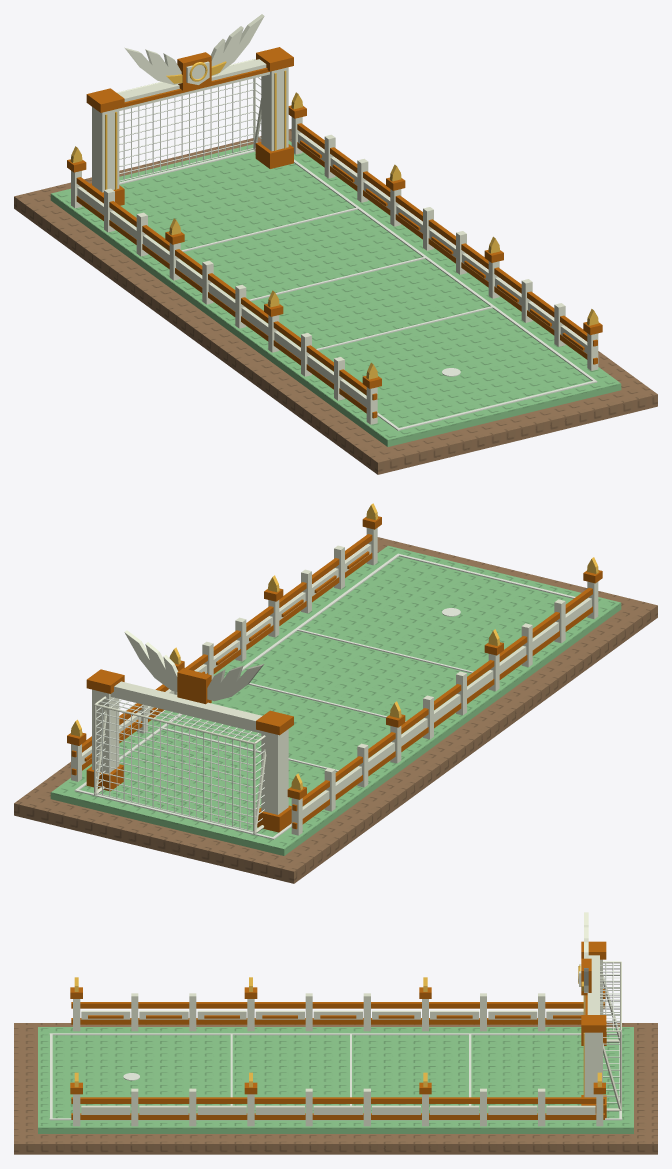
The model's file is divine-field.fbx.
3 renders of one model, top to bottom at view 1: azimuth 30°, elevation 25°; view 2: azimuth 150°, elevation 25°; view 3: azimuth 270°, elevation 25°, orthographic. The views are drawn at different scales.
Parts seen in each view (by area): view 1: GF_Diamond_Turf, GF_Earth_Base, GF_Steel_Rails, GF_Fence_Posts, GF_Grass_Bed, GF_White_Markings, GF_Goal_Net, GF_Marble_Pillar.001, GF_Marble_Pillar, GF_Steel_Goal, GF_White_Wing.001, GF_White_Wing (+4 smaller); view 2: GF_Diamond_Turf, GF_Earth_Base, GF_Steel_Rails, GF_Goal_Net, GF_Fence_Posts, GF_Grass_Bed, GF_White_Markings, GF_Steel_Goal, GF_Marble_Pillar, GF_Marble_Pillar.001, GF_White_Wing.001, GF_White_Wing (+7 smaller); view 3: GF_Diamond_Turf, GF_Earth_Base, GF_Steel_Rails, GF_Fence_Posts, GF_Grass_Bed, GF_White_Markings, GF_Goal_Net, GF_Marble_Pillar.001, GF_Steel_Goal, GF_Goal_Supports, GF_Sideline_Panel.010, GF_Sideline_Panel.017 (+17 smaller).
Boxes of the visible parts, x1=… form: GF_Diamond_Turf: x1=51, y1=140, x2=620, y2=440; GF_Earth_Base: x1=14, y1=128, x2=657, y2=474; GF_Steel_Rails: x1=76, y1=123, x2=597, y2=418; GF_Fence_Posts: x1=71, y1=117, x2=598, y2=424; GF_Grass_Bed: x1=50, y1=194, x2=621, y2=446; GF_White_Markings: x1=86, y1=150, x2=597, y2=430; GF_Goal_Net: x1=119, y1=77, x2=261, y2=181; GF_Marble_Pillar.001: x1=261, y1=67, x2=288, y2=151; GF_Marble_Pillar: x1=92, y1=107, x2=119, y2=192; GF_Steel_Goal: x1=118, y1=59, x2=269, y2=110; GF_White_Wing.001: x1=210, y1=14, x2=264, y2=75; GF_White_Wing: x1=124, y1=47, x2=181, y2=84; GF_Diamond_Turf: x1=51, y1=545, x2=620, y2=849; GF_Earth_Base: x1=14, y1=537, x2=657, y2=883; GF_Steel_Rails: x1=71, y1=534, x2=592, y2=829; GF_Goal_Net: x1=96, y1=697, x2=264, y2=831; GF_Fence_Posts: x1=71, y1=528, x2=598, y2=835; GF_Grass_Bed: x1=50, y1=603, x2=621, y2=855; GF_White_Markings: x1=74, y1=553, x2=585, y2=839; GF_Steel_Goal: x1=110, y1=681, x2=261, y2=733; GF_Marble_Pillar: x1=261, y1=729, x2=288, y2=814; GF_Marble_Pillar.001: x1=92, y1=689, x2=119, y2=773; GF_White_Wing.001: x1=124, y1=630, x2=178, y2=691; GF_White_Wing: x1=207, y1=664, x2=263, y2=701; GF_Diamond_Turf: x1=38, y1=1027, x2=633, y2=1127; GF_Earth_Base: x1=14, y1=1023, x2=657, y2=1154; GF_Steel_Rails: x1=71, y1=1002, x2=604, y2=1119; GF_Fence_Posts: x1=73, y1=993, x2=603, y2=1126; GF_Grass_Bed: x1=38, y1=1128, x2=633, y2=1133; GF_White_Markings: x1=49, y1=1033, x2=622, y2=1120; GF_Goal_Net: x1=600, y1=962, x2=619, y2=1103; GF_Marble_Pillar.001: x1=584, y1=1032, x2=602, y2=1097; GF_Steel_Goal: x1=587, y1=955, x2=599, y2=1014; GF_Goal_Supports: x1=603, y1=975, x2=621, y2=1111; GF_Sideline_Panel.010: x1=139, y1=1105, x2=188, y2=1114; GF_Sideline_Panel.017: x1=546, y1=1105, x2=595, y2=1114.
Size of the model in its own units: 960 by 564 by 2160.
Materials: 6 (6 with a texture image).
